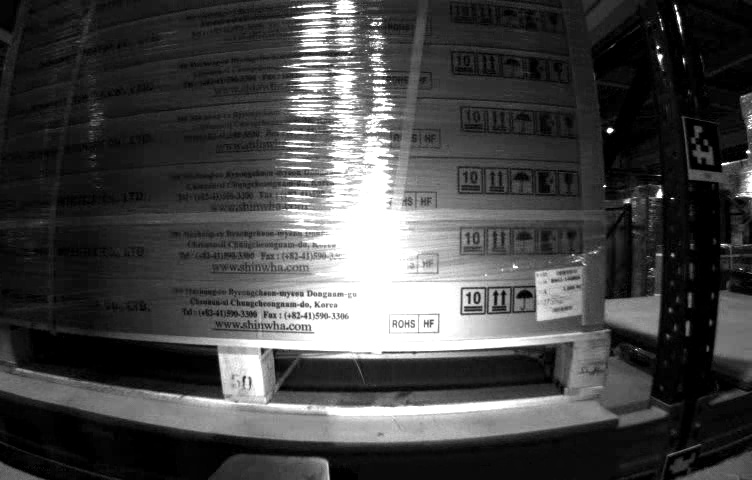True Barcode: (529, 270, 592, 318)
